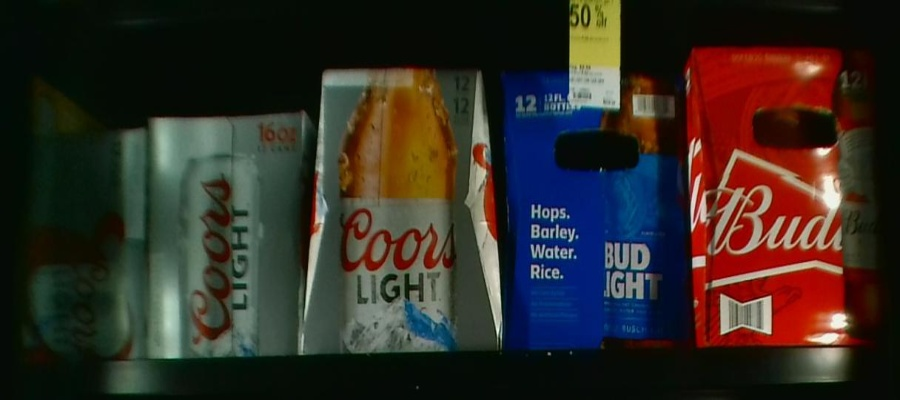bottle: (689, 46, 899, 347), (310, 67, 500, 355), (500, 70, 694, 350), (147, 115, 305, 355), (19, 130, 148, 358)
